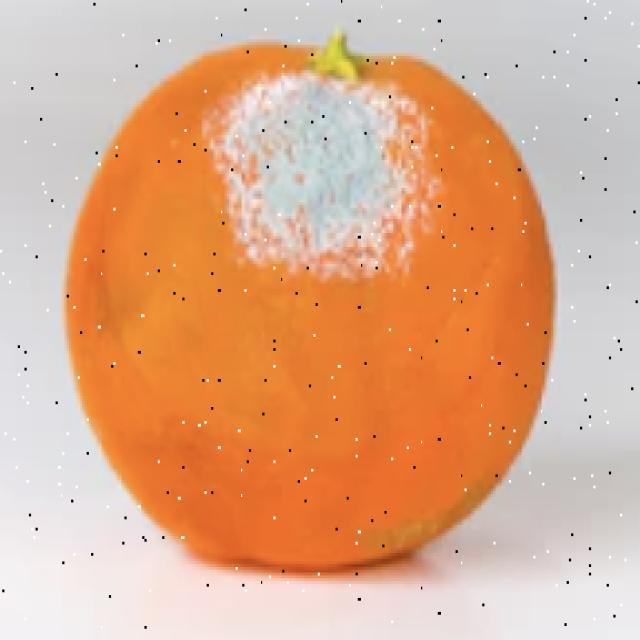sedikit-busuk: (65, 44, 553, 572)
